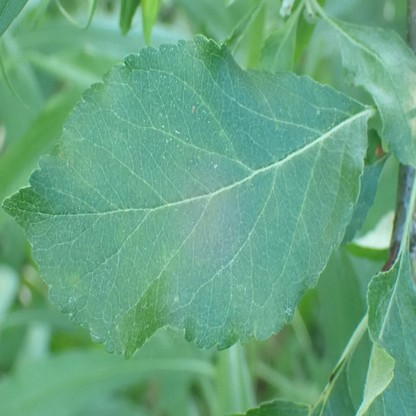frogeye_leaf_spot: (375, 146, 385, 159)
powdery_mildew: (338, 25, 416, 106), (379, 285, 395, 336)
scab: (67, 273, 83, 290)
